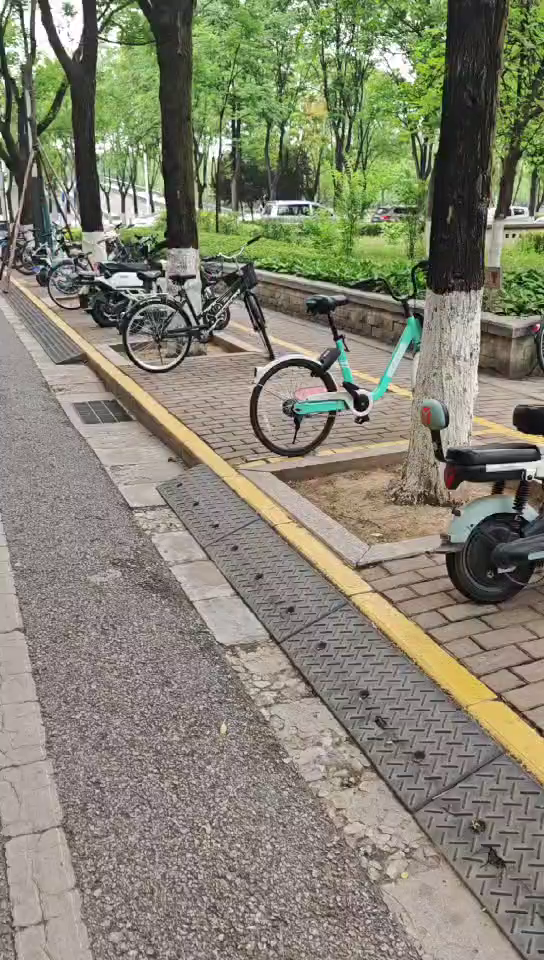others: (133, 240, 281, 371)
shared_bike_qingcong: (256, 261, 430, 446)
